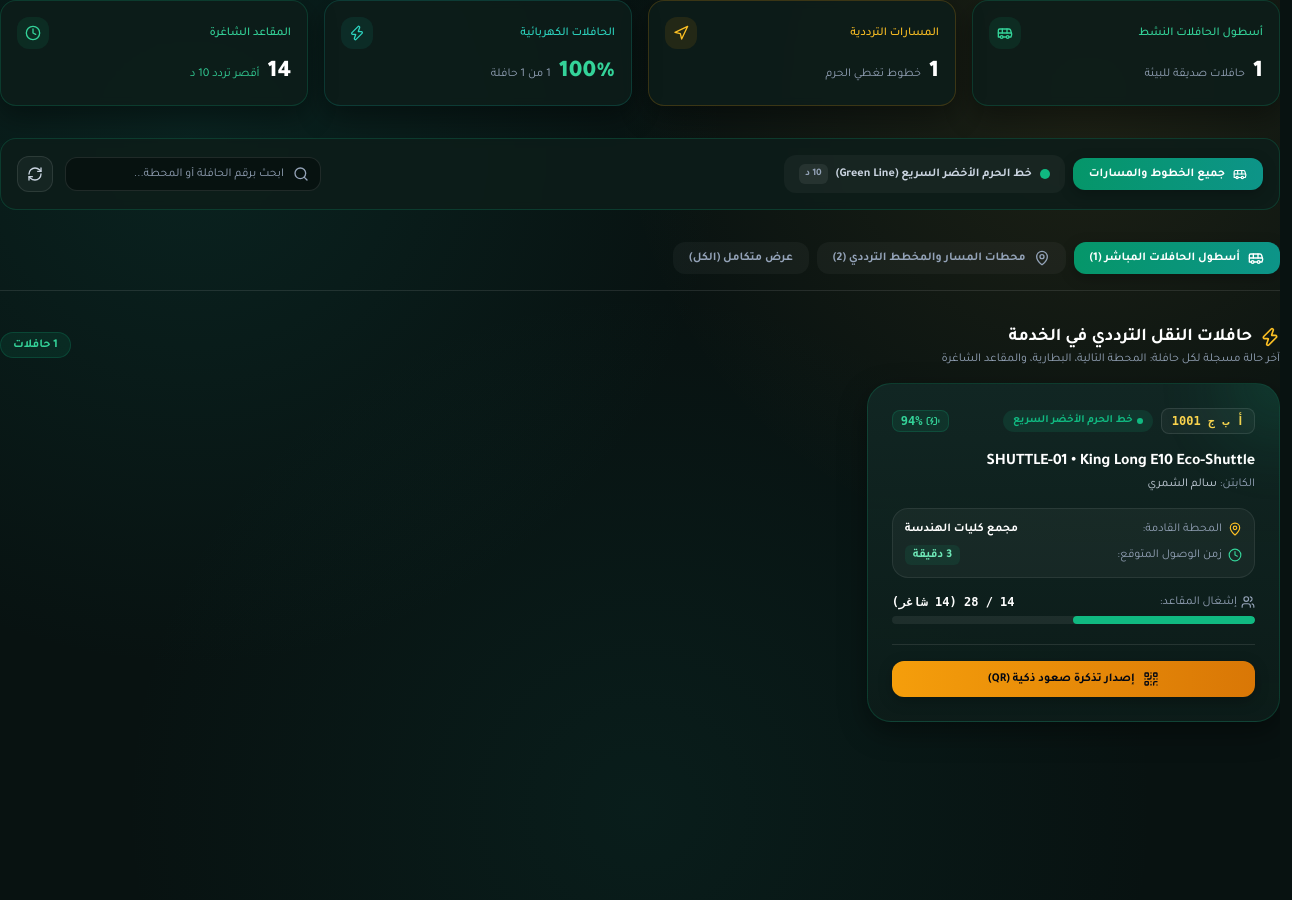
Scenario: TransitView Component › never shows a boarding pass when booking fails
Expected: the heading "SHUTTLE-01 • King Long E10 Eco-Shuttle" is shown, left=986, top=454, right=1255, bottom=470
What coordinates should you click on to do the following:
click the button "إصدار تذكرة صعود ذكية (QR)"
I would click on:
 (1073, 679)
Its box is left=892, top=661, right=1255, bottom=697.
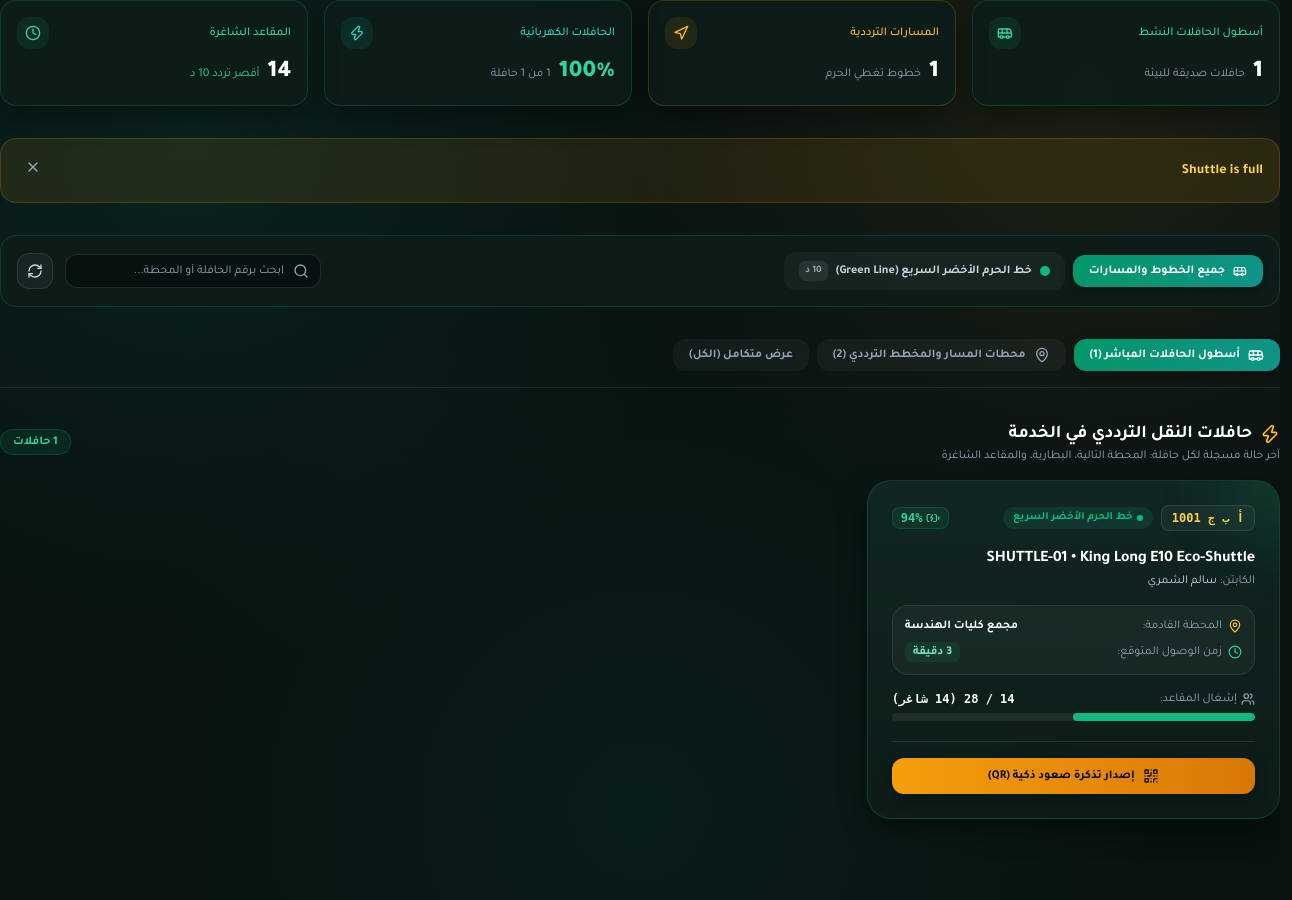
Expected: the message with test id "transit-booking-error" reads "Shuttle is full", left=1182, top=164, right=1263, bottom=178
